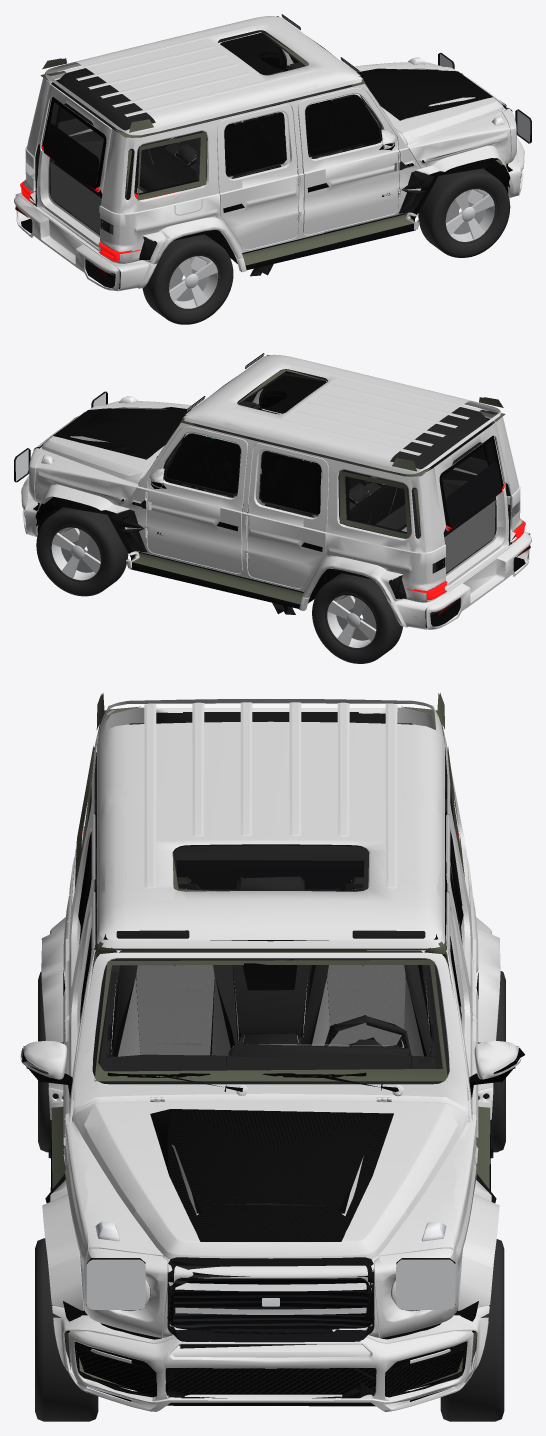
The model's file is mercedez_g_wagon.glb.
3 renders of one model, top to bottom at view 1: azimuth 30°, elevation 25°; view 2: azimuth 150°, elevation 25°; view 3: azimuth 270°, elevation 25°, orthographic. The views are drawn at different scales.
Visible parts, largest first — view 1: core, part_roof, part_glass, part_door_fr, part_quarter_rr, part_door_rr, wheel_fr, wheel_rr, part_rear_bumper, part_trunk, part_hood, part_fender_fr (+4 smaller); view 2: core, part_roof, part_glass, part_door_fl, part_quarter_rl, part_door_rl, wheel_fl, wheel_rl, part_rear_bumper, part_trunk, part_hood, part_fender_fl (+4 smaller); view 3: core, part_roof, part_hood, part_front_bumper, liner_trim, wheel_fr, part_door_fr, part_door_fl, wheel_fl, part_fender_fl, part_fender_fr, part_quarter_rl (+11 smaller).
Boxes of the visible parts, x1,y1,x2,y2 form: core: (15,15,521,289); part_roof: (43,16,389,182); part_glass: (41,14,410,217); part_door_fr: (323,118,429,232); part_quarter_rr: (98,161,246,271); part_door_rr: (240,141,325,259); wheel_fr: (418,168,510,257); wheel_rr: (142,234,233,324); part_rear_bumper: (14,172,161,291); part_trunk: (25,72,170,251); part_hood: (349,62,516,140); part_fender_fr: (421,111,516,174); core: (24,354,530,628); part_roof: (156,354,502,521); part_glass: (135,353,504,556); part_door_fl: (116,457,222,571); part_quarter_rl: (299,498,448,610); part_door_rl: (220,480,304,597); wheel_fl: (36,507,128,596); wheel_rl: (312,573,402,663); part_rear_bumper: (384,511,531,629); part_trunk: (375,411,520,590); part_hood: (29,401,196,478); part_fender_fl: (29,450,125,513); core: (21,693,524,1406); part_roof: (77,702,464,1051); part_hood: (77,1086,463,1281); part_front_bumper: (48,1242,493,1411); liner_trim: (86,860,455,1342); wheel_fr: (35,1238,98,1421); part_door_fr: (53,1022,270,1192); part_door_fl: (271,1022,488,1192); wheel_fl: (440,1239,504,1421); part_fender_fl: (342,1131,499,1267); part_fender_fr: (42,1131,198,1267); part_quarter_rl: (454,802,500,1119).
Size of the model in its own units: 4.82 by 2.12 by 2.4.
Materials: 54 (41 with a texture image).
